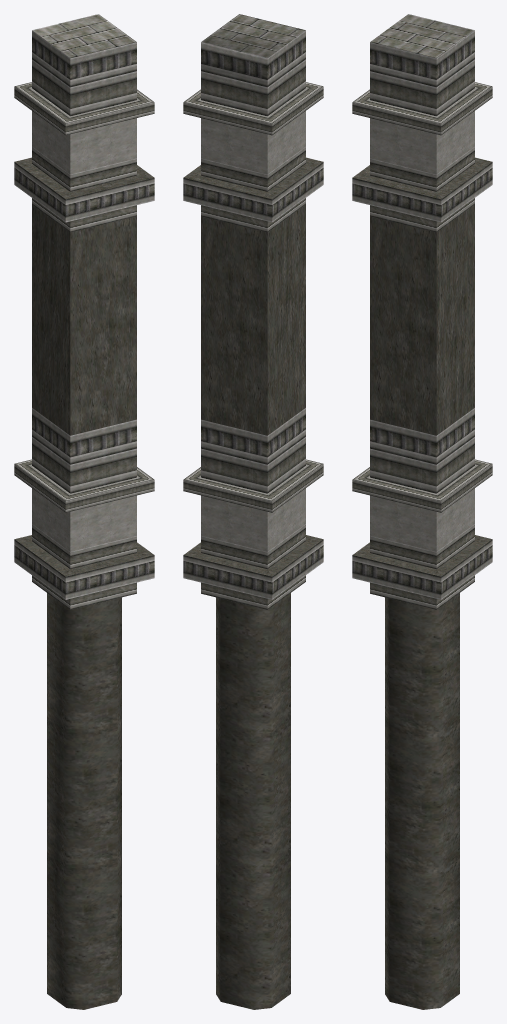
Rendered from L_MOUNTAIN_WTRFALL_COLUMN01.fbx.
3 views of the same model, side by side, from view 1: azimuth 30°, elevation 25°; view 2: azimuth 150°, elevation 25°; view 3: azimuth 330°, elevation 25° (orthographic).
Parts seen in each view (by area): view 1: L_MOUNTAIN_WTRFALL_COLUMN01; view 2: L_MOUNTAIN_WTRFALL_COLUMN01; view 3: L_MOUNTAIN_WTRFALL_COLUMN01.
Boxes of the visible parts, x1,y1,x2,y2 form: L_MOUNTAIN_WTRFALL_COLUMN01: (14, 14, 154, 1009); L_MOUNTAIN_WTRFALL_COLUMN01: (183, 14, 323, 1009); L_MOUNTAIN_WTRFALL_COLUMN01: (352, 14, 492, 1009).
Bounding box in the file's own units: 16000 × 165000 × 16001.
6 materials, 6 textured.
